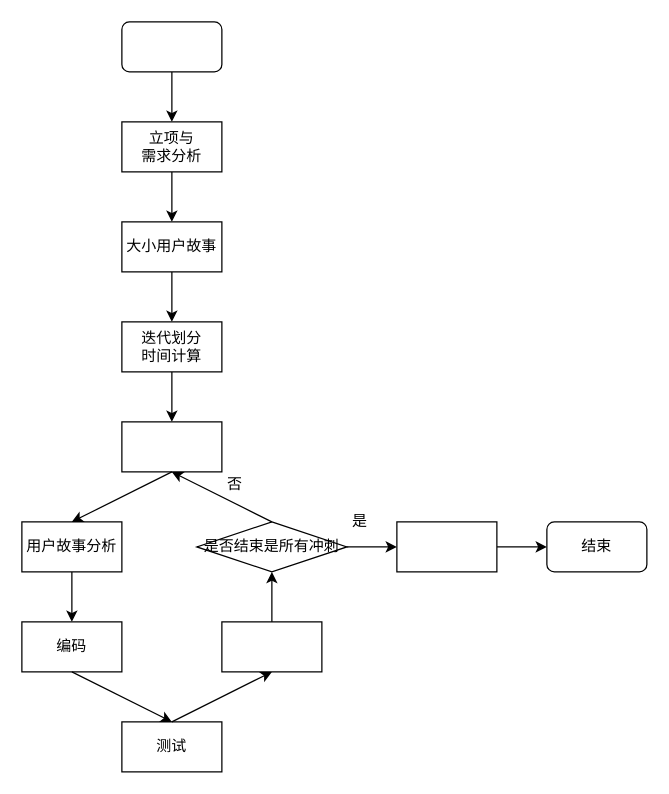
Some shapes in this 669 by 794 pixel diagram are drawn without their labels. The shapes that lost their labels are listed below. From the top down, each one's centre as x and y in pixels, then its label:
the point at 171,46: 开始
the point at 171,446: 开始新冲刺
the point at 446,546: 总结与分析
the point at 271,646: CI/CD
